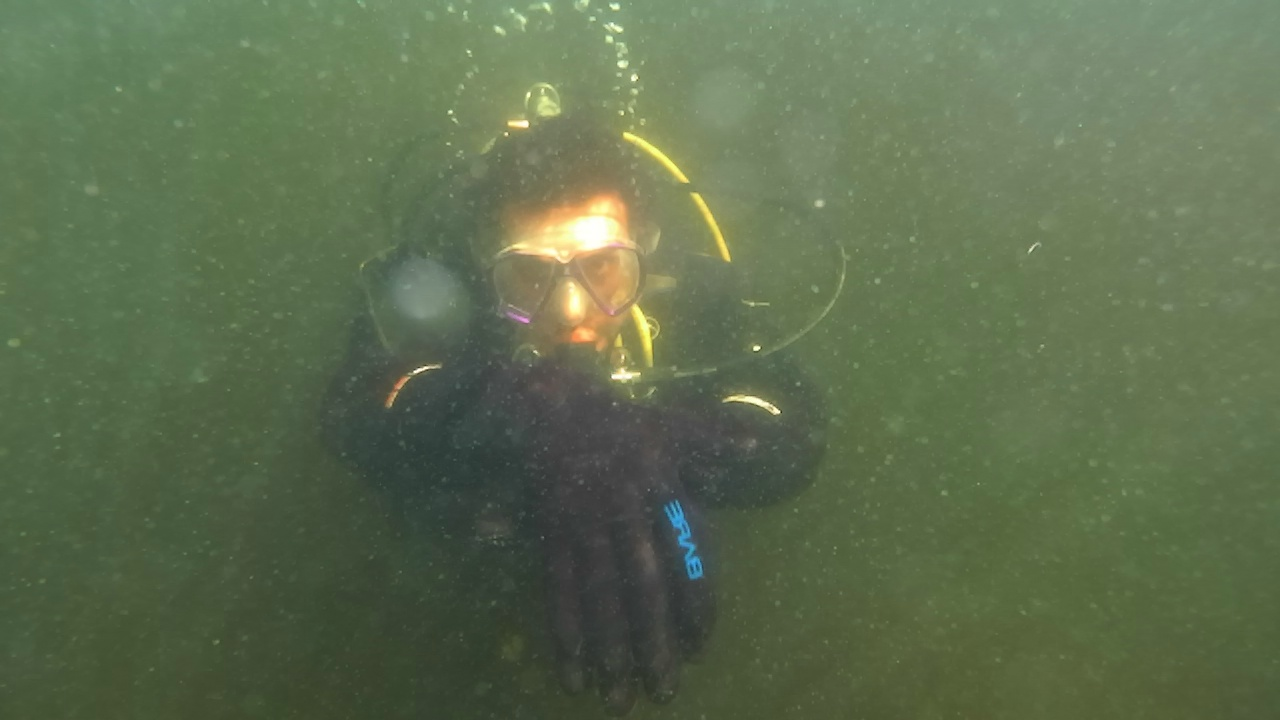Diver: (292, 96, 864, 700)
Hand: (474, 346, 778, 714)
Head: (460, 110, 670, 410)
